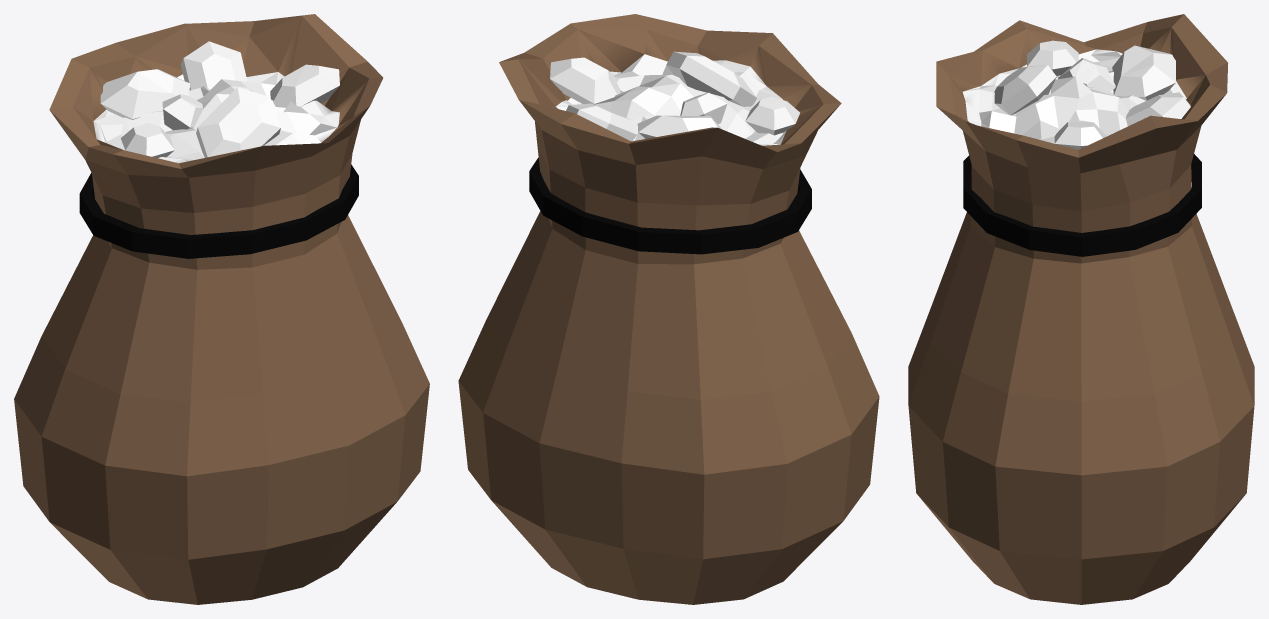
Rendered from PP_Money_Bag_06.fbx.
3 renders of one model, left to right at view 1: azimuth 30°, elevation 25°; view 2: azimuth 150°, elevation 25°; view 3: azimuth 270°, elevation 25°, orthographic.
Parts seen in each view (by area): view 1: PP_Money_Bag_06; view 2: PP_Money_Bag_06; view 3: PP_Money_Bag_06.
Boxes of the visible parts, x1,y1,x2,y2 form: PP_Money_Bag_06: (14, 14, 429, 604); PP_Money_Bag_06: (458, 14, 879, 604); PP_Money_Bag_06: (908, 14, 1254, 604).
Bounding box in the file's own units: 57.18 × 72.98 × 46.84.
